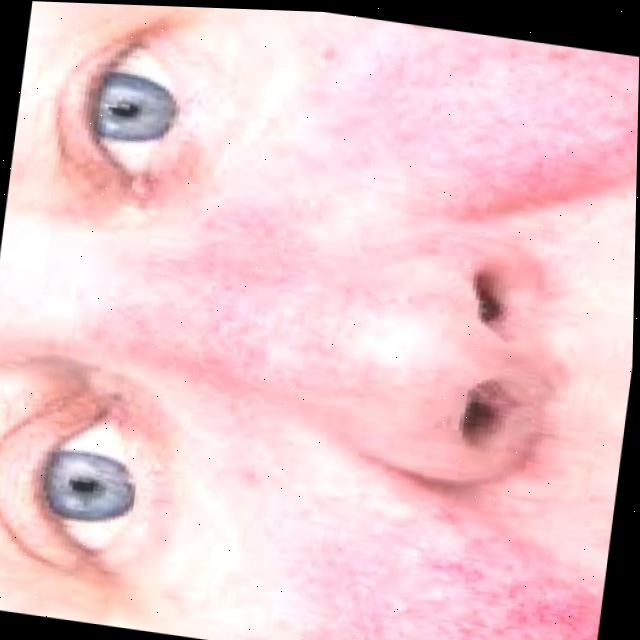Rosacea: (278, 10, 640, 225), (296, 518, 607, 640), (73, 231, 272, 383)
